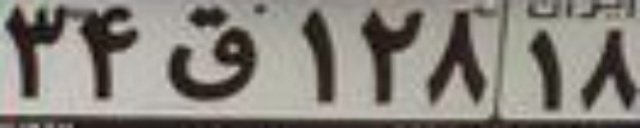1: (301, 8, 337, 103), (523, 29, 562, 109)
2: (360, 8, 420, 105)
3: (5, 3, 68, 98)
4: (78, 6, 145, 100)
8: (424, 10, 491, 106), (579, 28, 637, 113)
ghaf: (163, 6, 258, 100)
